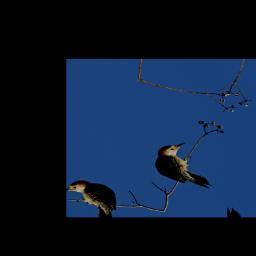Woodpecker: (138, 135, 227, 200)
